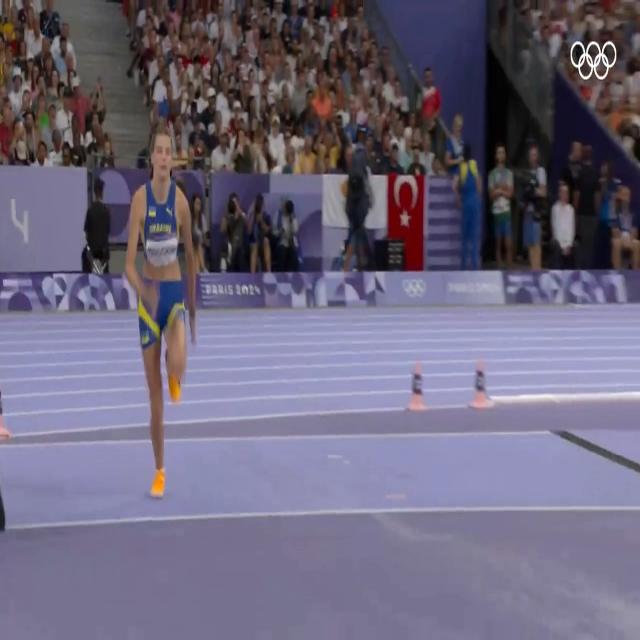run: (125, 124, 198, 497)
